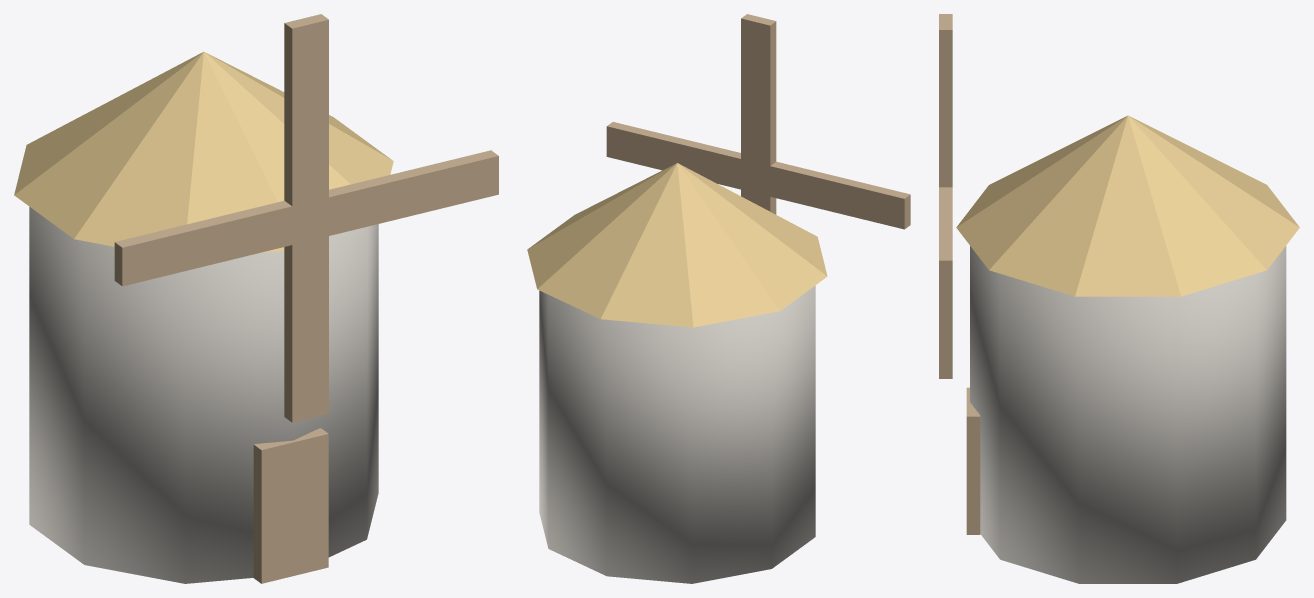
Rendered from mill.glb.
3 views of the same model, side by side, from view 1: azimuth 30°, elevation 25°; view 2: azimuth 150°, elevation 25°; view 3: azimuth 270°, elevation 25° (orthographic). The views are drawn at different scales.
Visible parts, largest first — view 1: mill_stone, mill_wood, mill_roof; view 2: mill_stone, mill_roof, mill_wood; view 3: mill_stone, mill_roof, mill_wood.
Part boxes in pixels (box(x1,y1,x2,y2)): mill_stone: box(29, 207, 378, 583); mill_wood: box(114, 14, 498, 583); mill_roof: box(14, 51, 393, 252); mill_stone: box(539, 285, 815, 583); mill_roof: box(527, 163, 827, 327); mill_wood: box(606, 14, 910, 229); mill_stone: box(970, 246, 1286, 583); mill_roof: box(956, 115, 1299, 296); mill_wood: box(939, 14, 980, 534).
Size of the model in its own units: 1.87 by 2.67 by 1.75.
